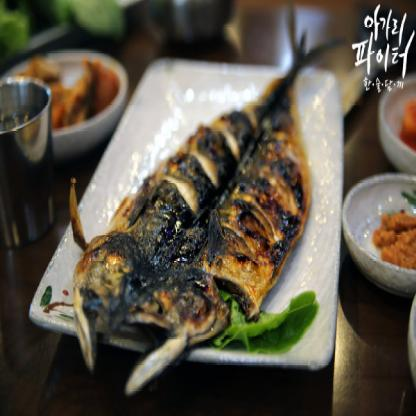Peixe: (57, 36, 326, 394)
